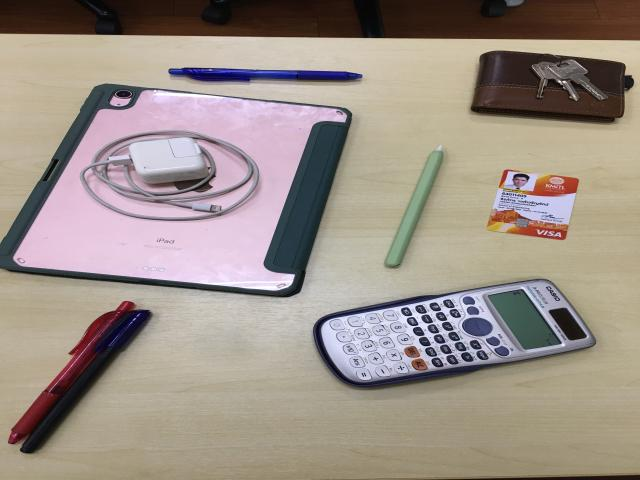Keys: (532, 58, 611, 100)
Pen: (8, 302, 154, 456), (163, 66, 368, 85)
Wallet: (472, 51, 635, 123)
wire: (78, 131, 262, 222)
